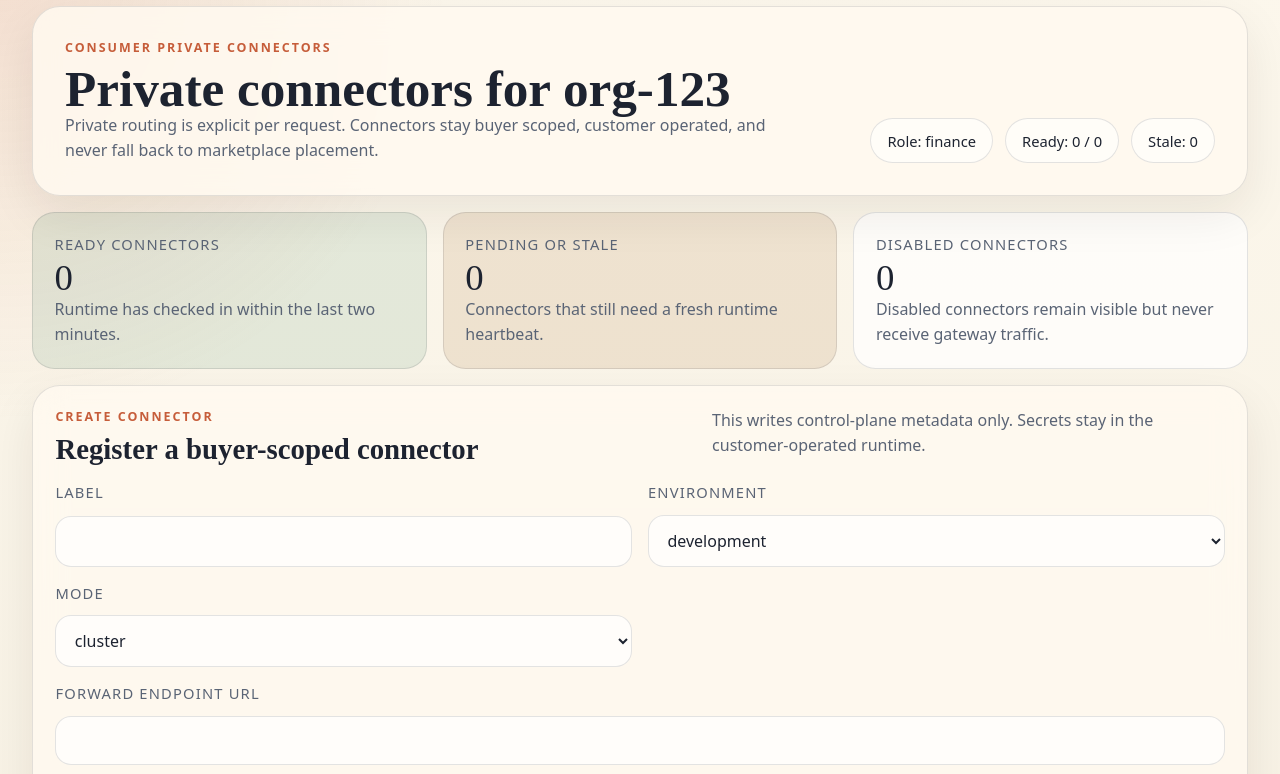
Scenario: PrivateConnectorDashboardScreen › renders create failures explicitly
Type "Blocked connector" into the field named "Connector label".
click(344, 541); type("Blocked connector")  # box [55,516,632,567]
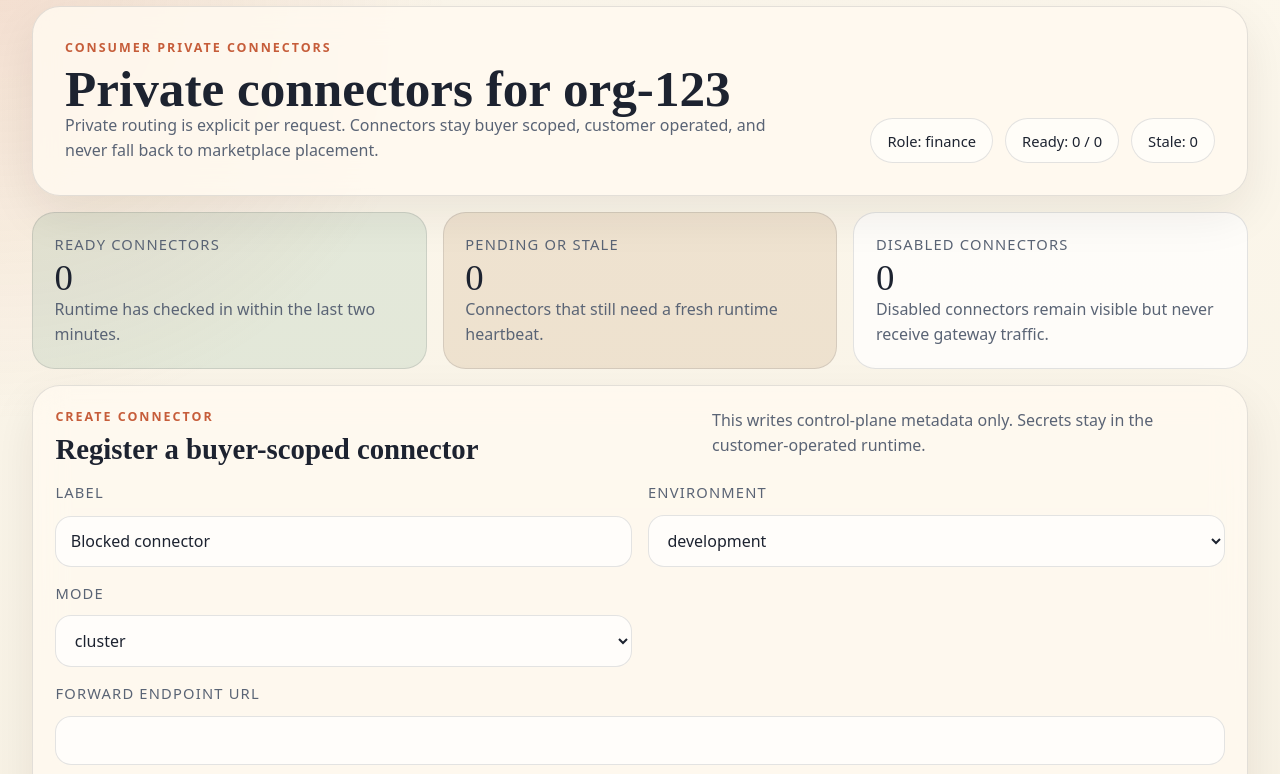
Type "http://connector.internal" into the field named "Connector endpoint URL".
click(640, 741); type("http://connector.internal")  # box [55,716,1225,765]
(page scrolled)
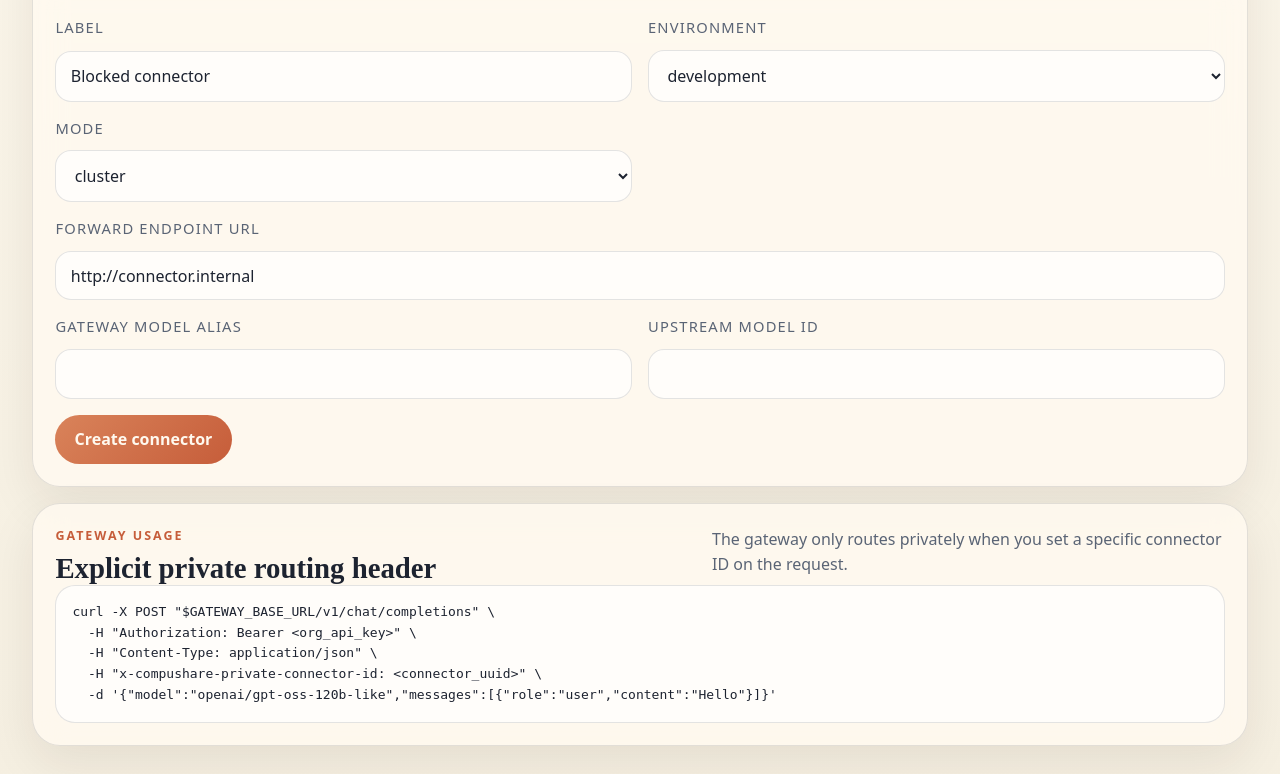
Type "openai/gpt-oss-120b-like" into the field named "Connector request model alias".
click(344, 374); type("openai/gpt-oss-120b-like")  # box [55,349,632,399]
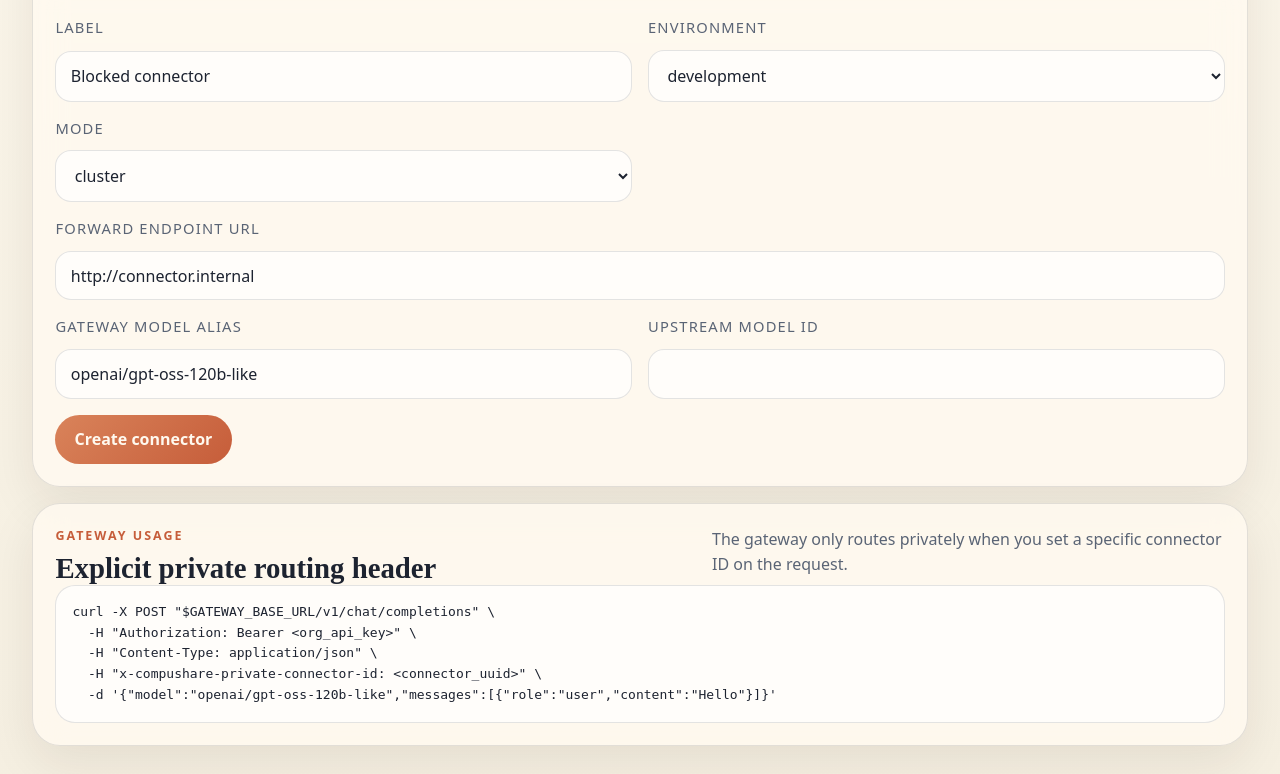
Type "gpt-oss-120b-instruct" into the field named "Connector upstream model ID".
click(936, 374); type("gpt-oss-120b-instruct")  # box [648,349,1225,399]
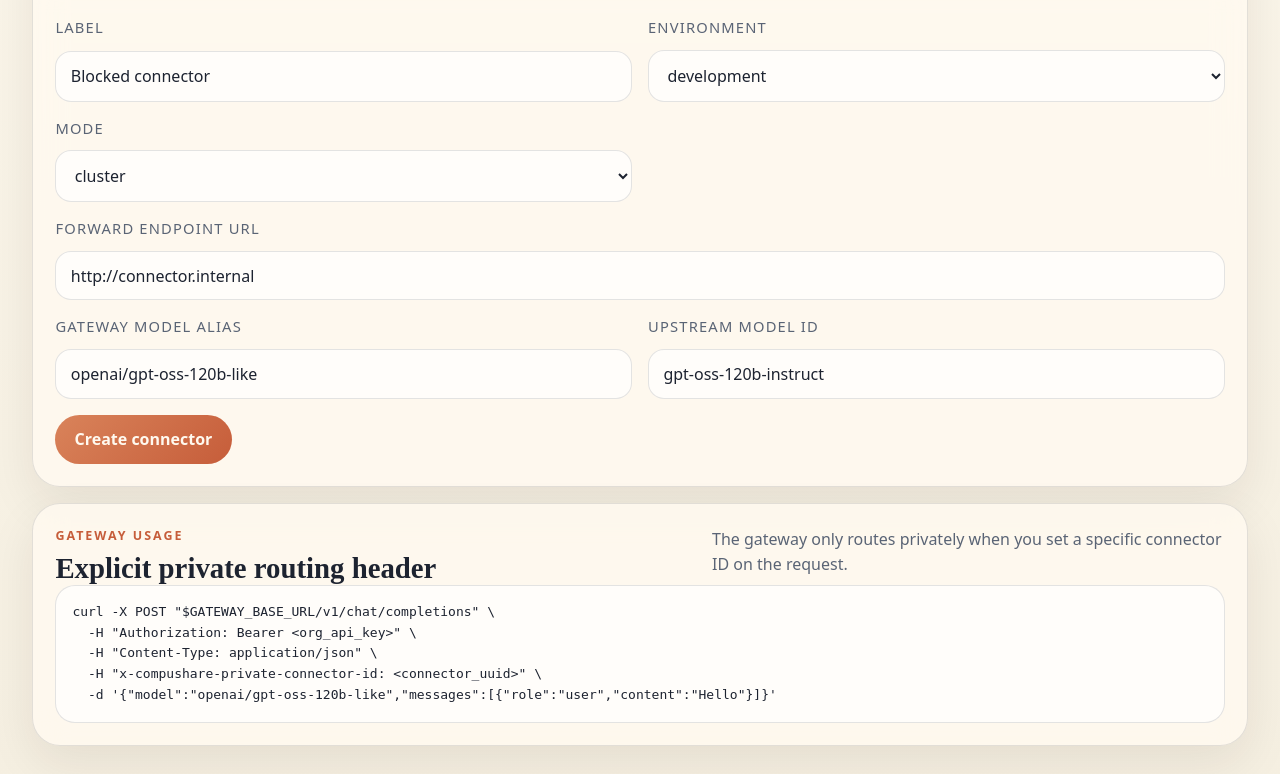
Click the button "Create connector".
click(143, 439)  # box [55,415,232,464]
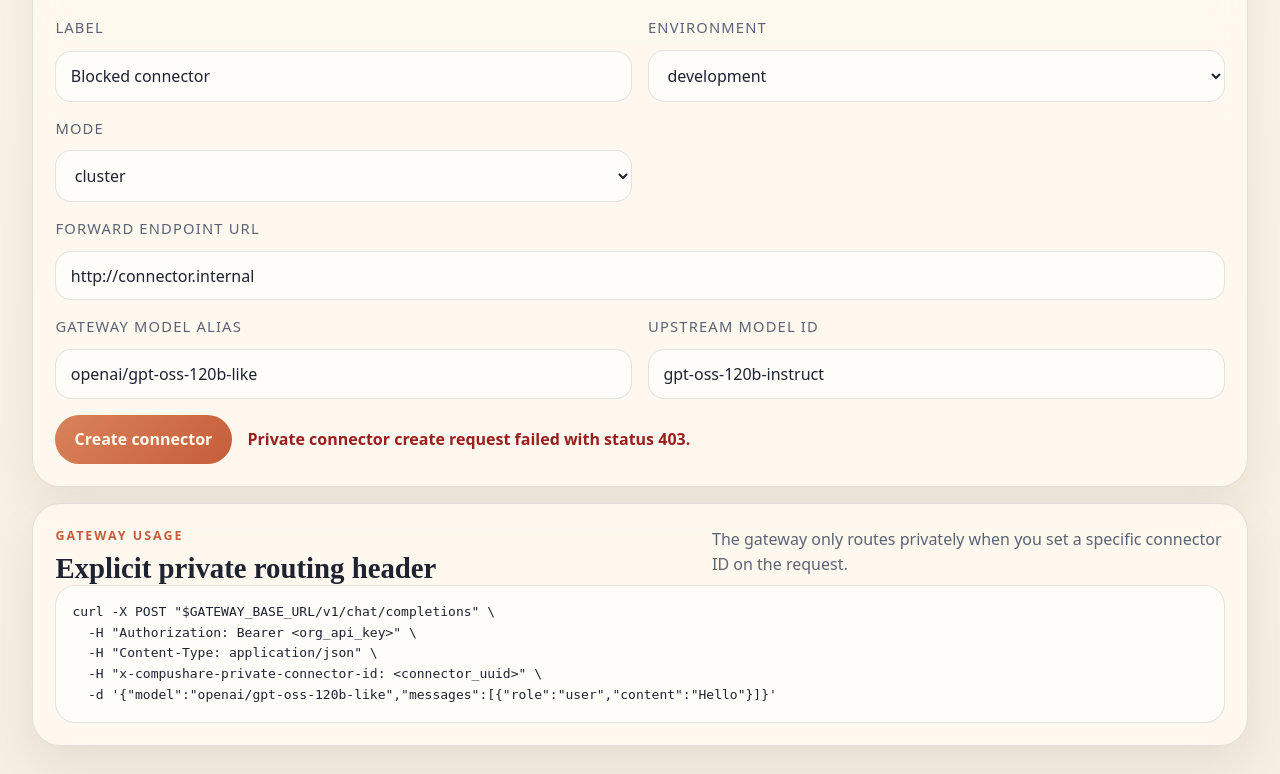
Result: the message shows "status 403" at [248,428,690,450]
